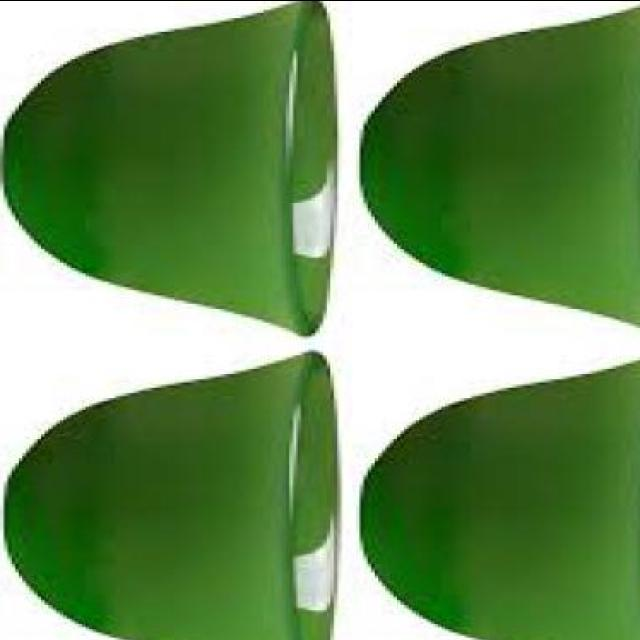kaca: (0, 0, 342, 332), (10, 349, 344, 640), (363, 0, 640, 332), (363, 345, 640, 640)
